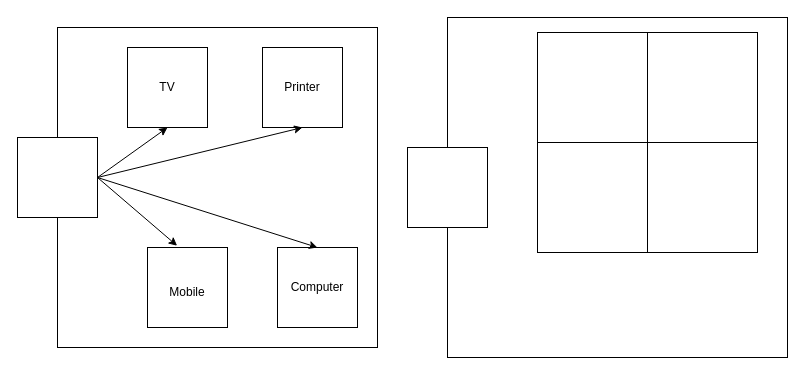
This 805x375 diagram has some shape labels left out. The box of each missing label's shape, as (x1, y1, x2, y2) in pixels:
Router: (16, 136, 98, 218)
VPC: (406, 146, 488, 228)
